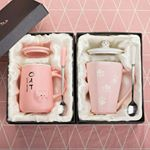cups: (84, 58, 140, 117), (17, 62, 67, 115)
